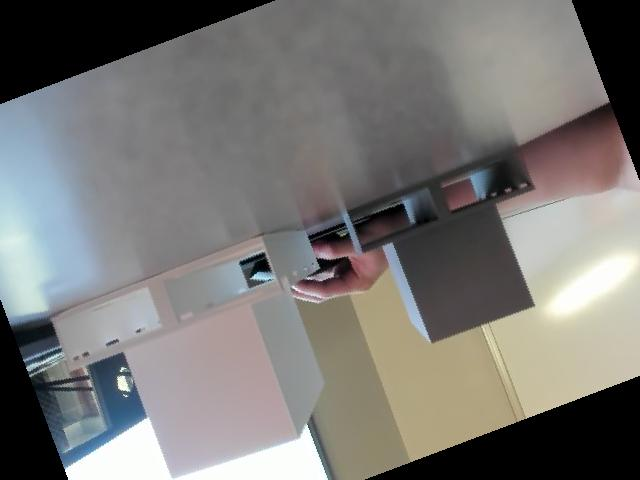grey pallet: (322, 145, 563, 349)
white pallet: (45, 203, 335, 479)
